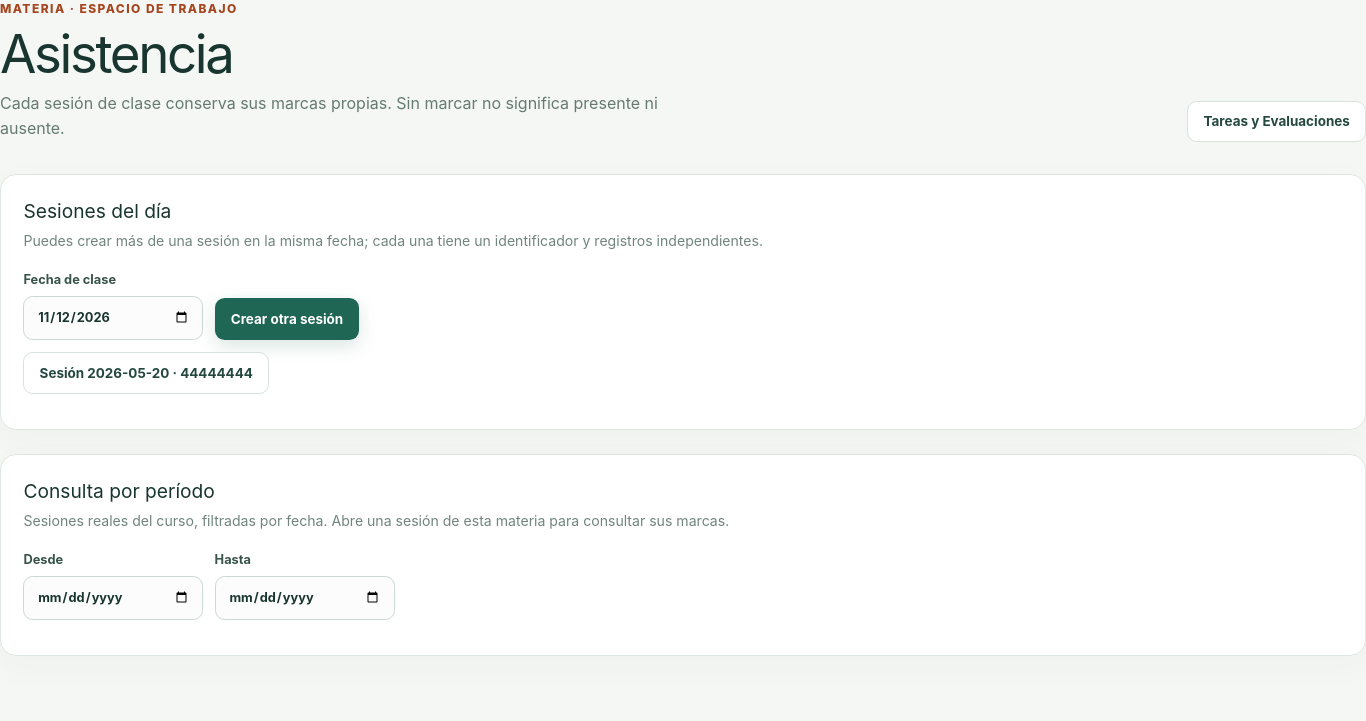
Test: A-24: Materia → Asistencia › limpia la observación justificativa sin perder la general y recarga un conflicto
Click the button "Sesión 2026-05-20 · 44444444" at (146, 373), box [23,352,269,394]
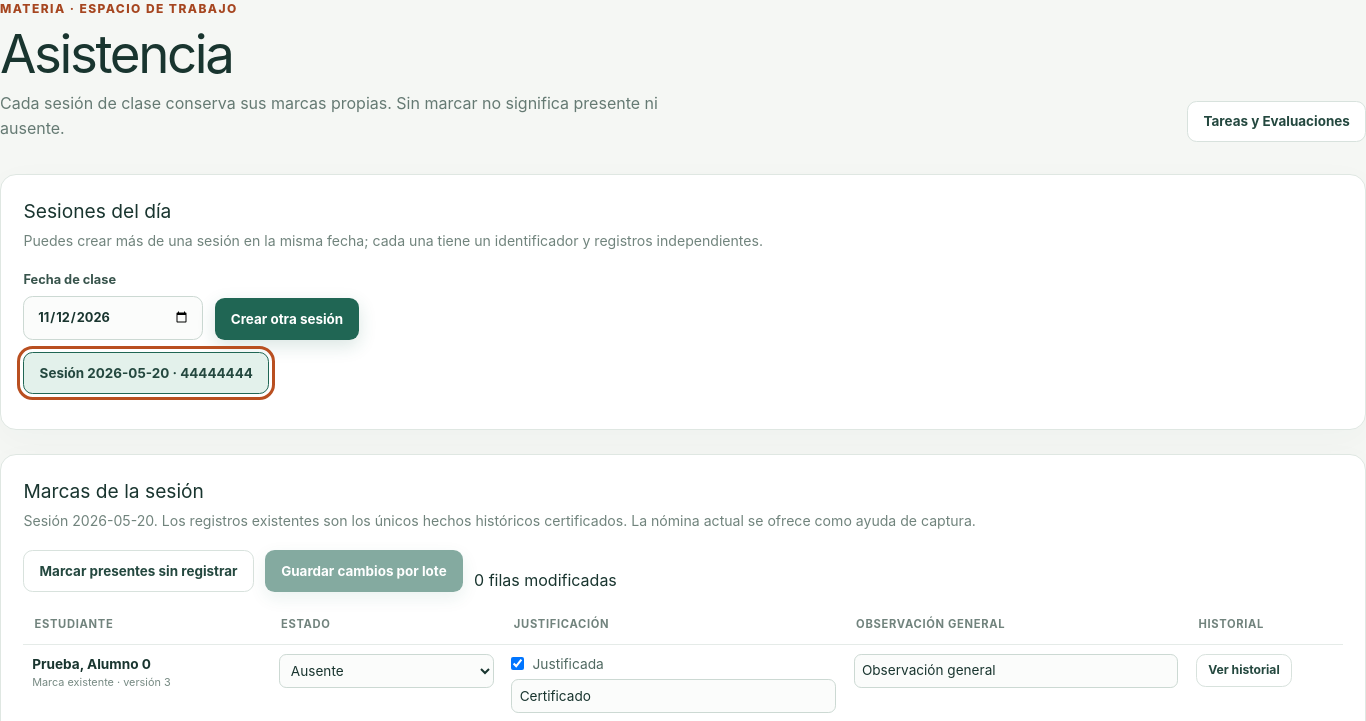
Click the checkbox labelled "Justificada" in the row of "Alumno 0" at (518, 664), box [511,657,524,670]
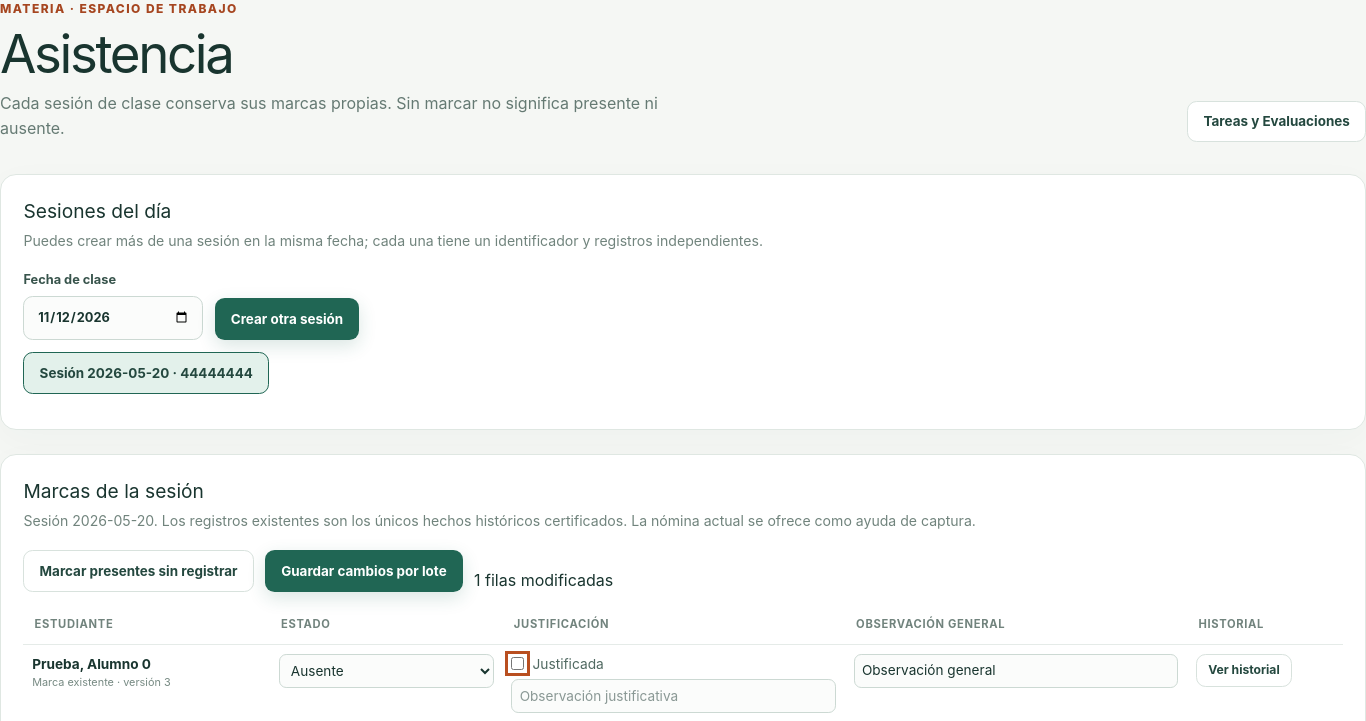
Now the field named "Observación general de Alumno 0" holds "Observación general", box [854,654,1178,688]
Now the field named "Observación justificativa de Alumno 0" is empty, box [511,679,836,713]
Click the button "Guardar cambios por lote" at (364, 571), box [265,550,463,592]
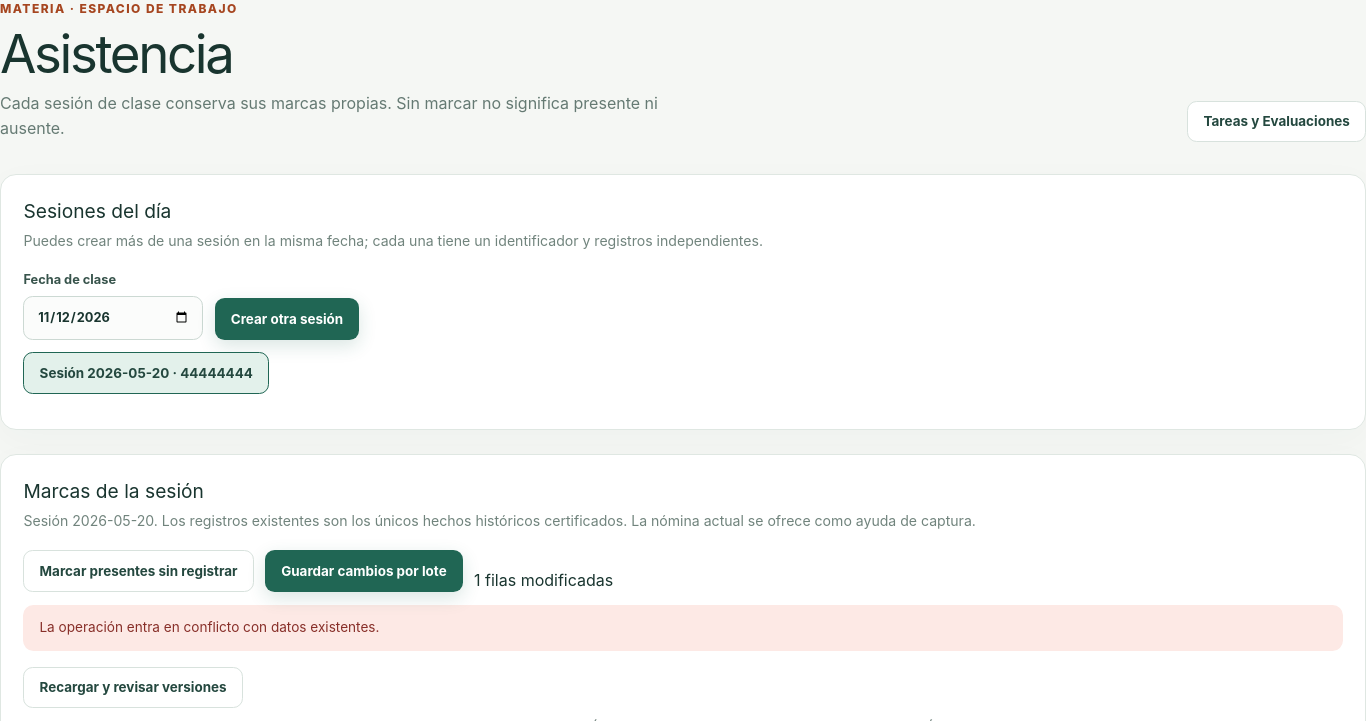
Click the button "Recargar y revisar versiones" at (133, 687), box [23,666,243,708]
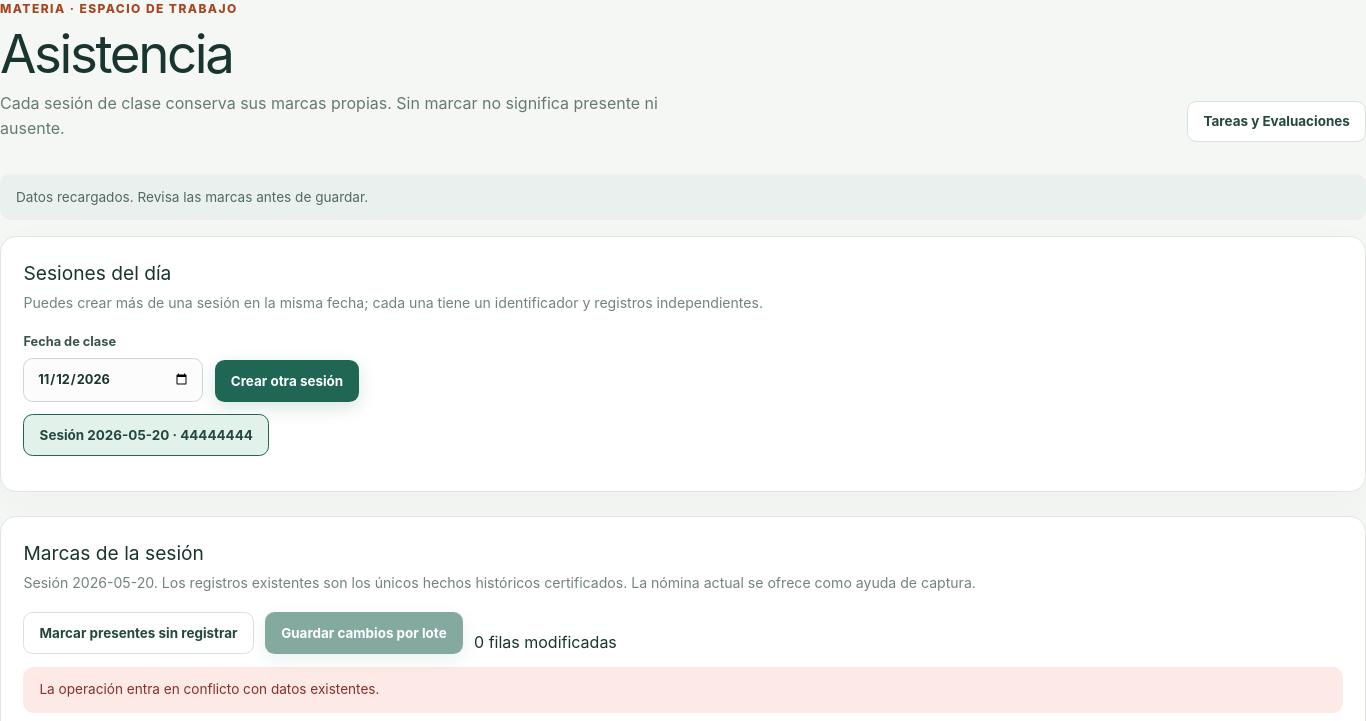
Now the text "Datos recargados. Revisa las marcas antes de guardar." is shown, box [0,174,1365,220]
